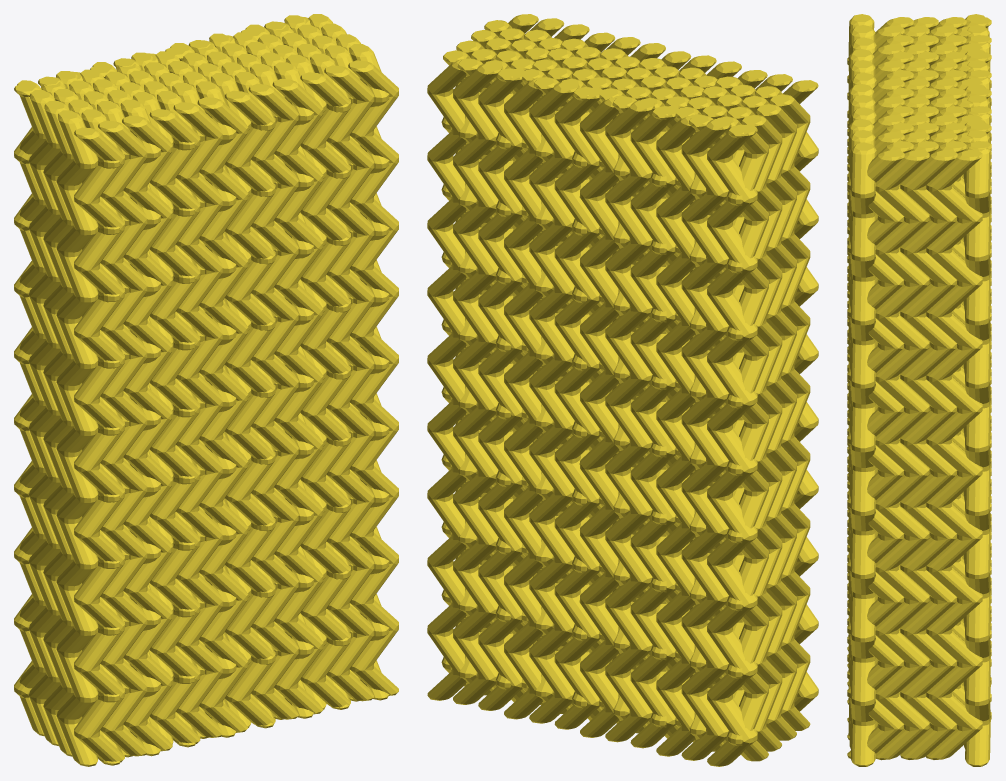
The model's file is noodlebrick.fbx.
3 views of the same model, side by side, from view 1: azimuth 30°, elevation 25°; view 2: azimuth 150°, elevation 25°; view 3: azimuth 270°, elevation 25° (orthographic). The views are drawn at different scales.
Parts seen in each view (by area): view 1: Cylinder.032; view 2: Cylinder.032; view 3: Cylinder.032.
Part boxes in pixels (x1,y1,x2,y2): Cylinder.032: (14,14,398,766); Cylinder.032: (427,14,818,766); Cylinder.032: (847,14,991,766).
Bounding box in the file's own units: 1444 × 2721 × 589.
